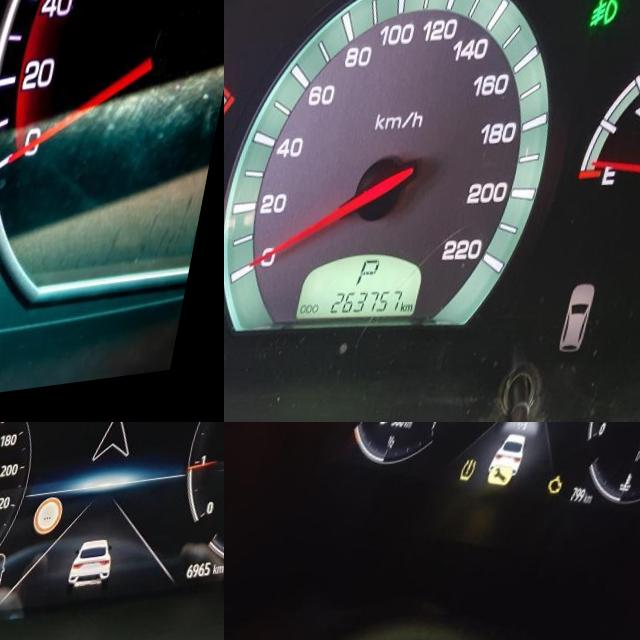FrontFogLight: (593, 8, 624, 41)
